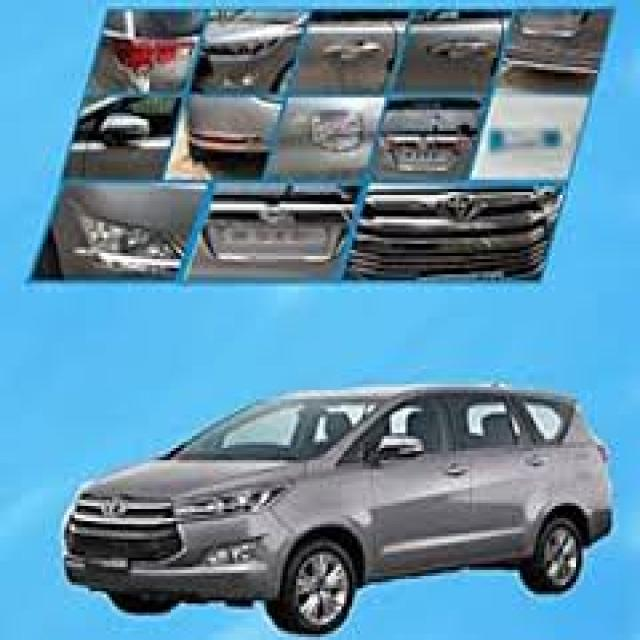light_vehicle: (63, 384, 613, 636)
